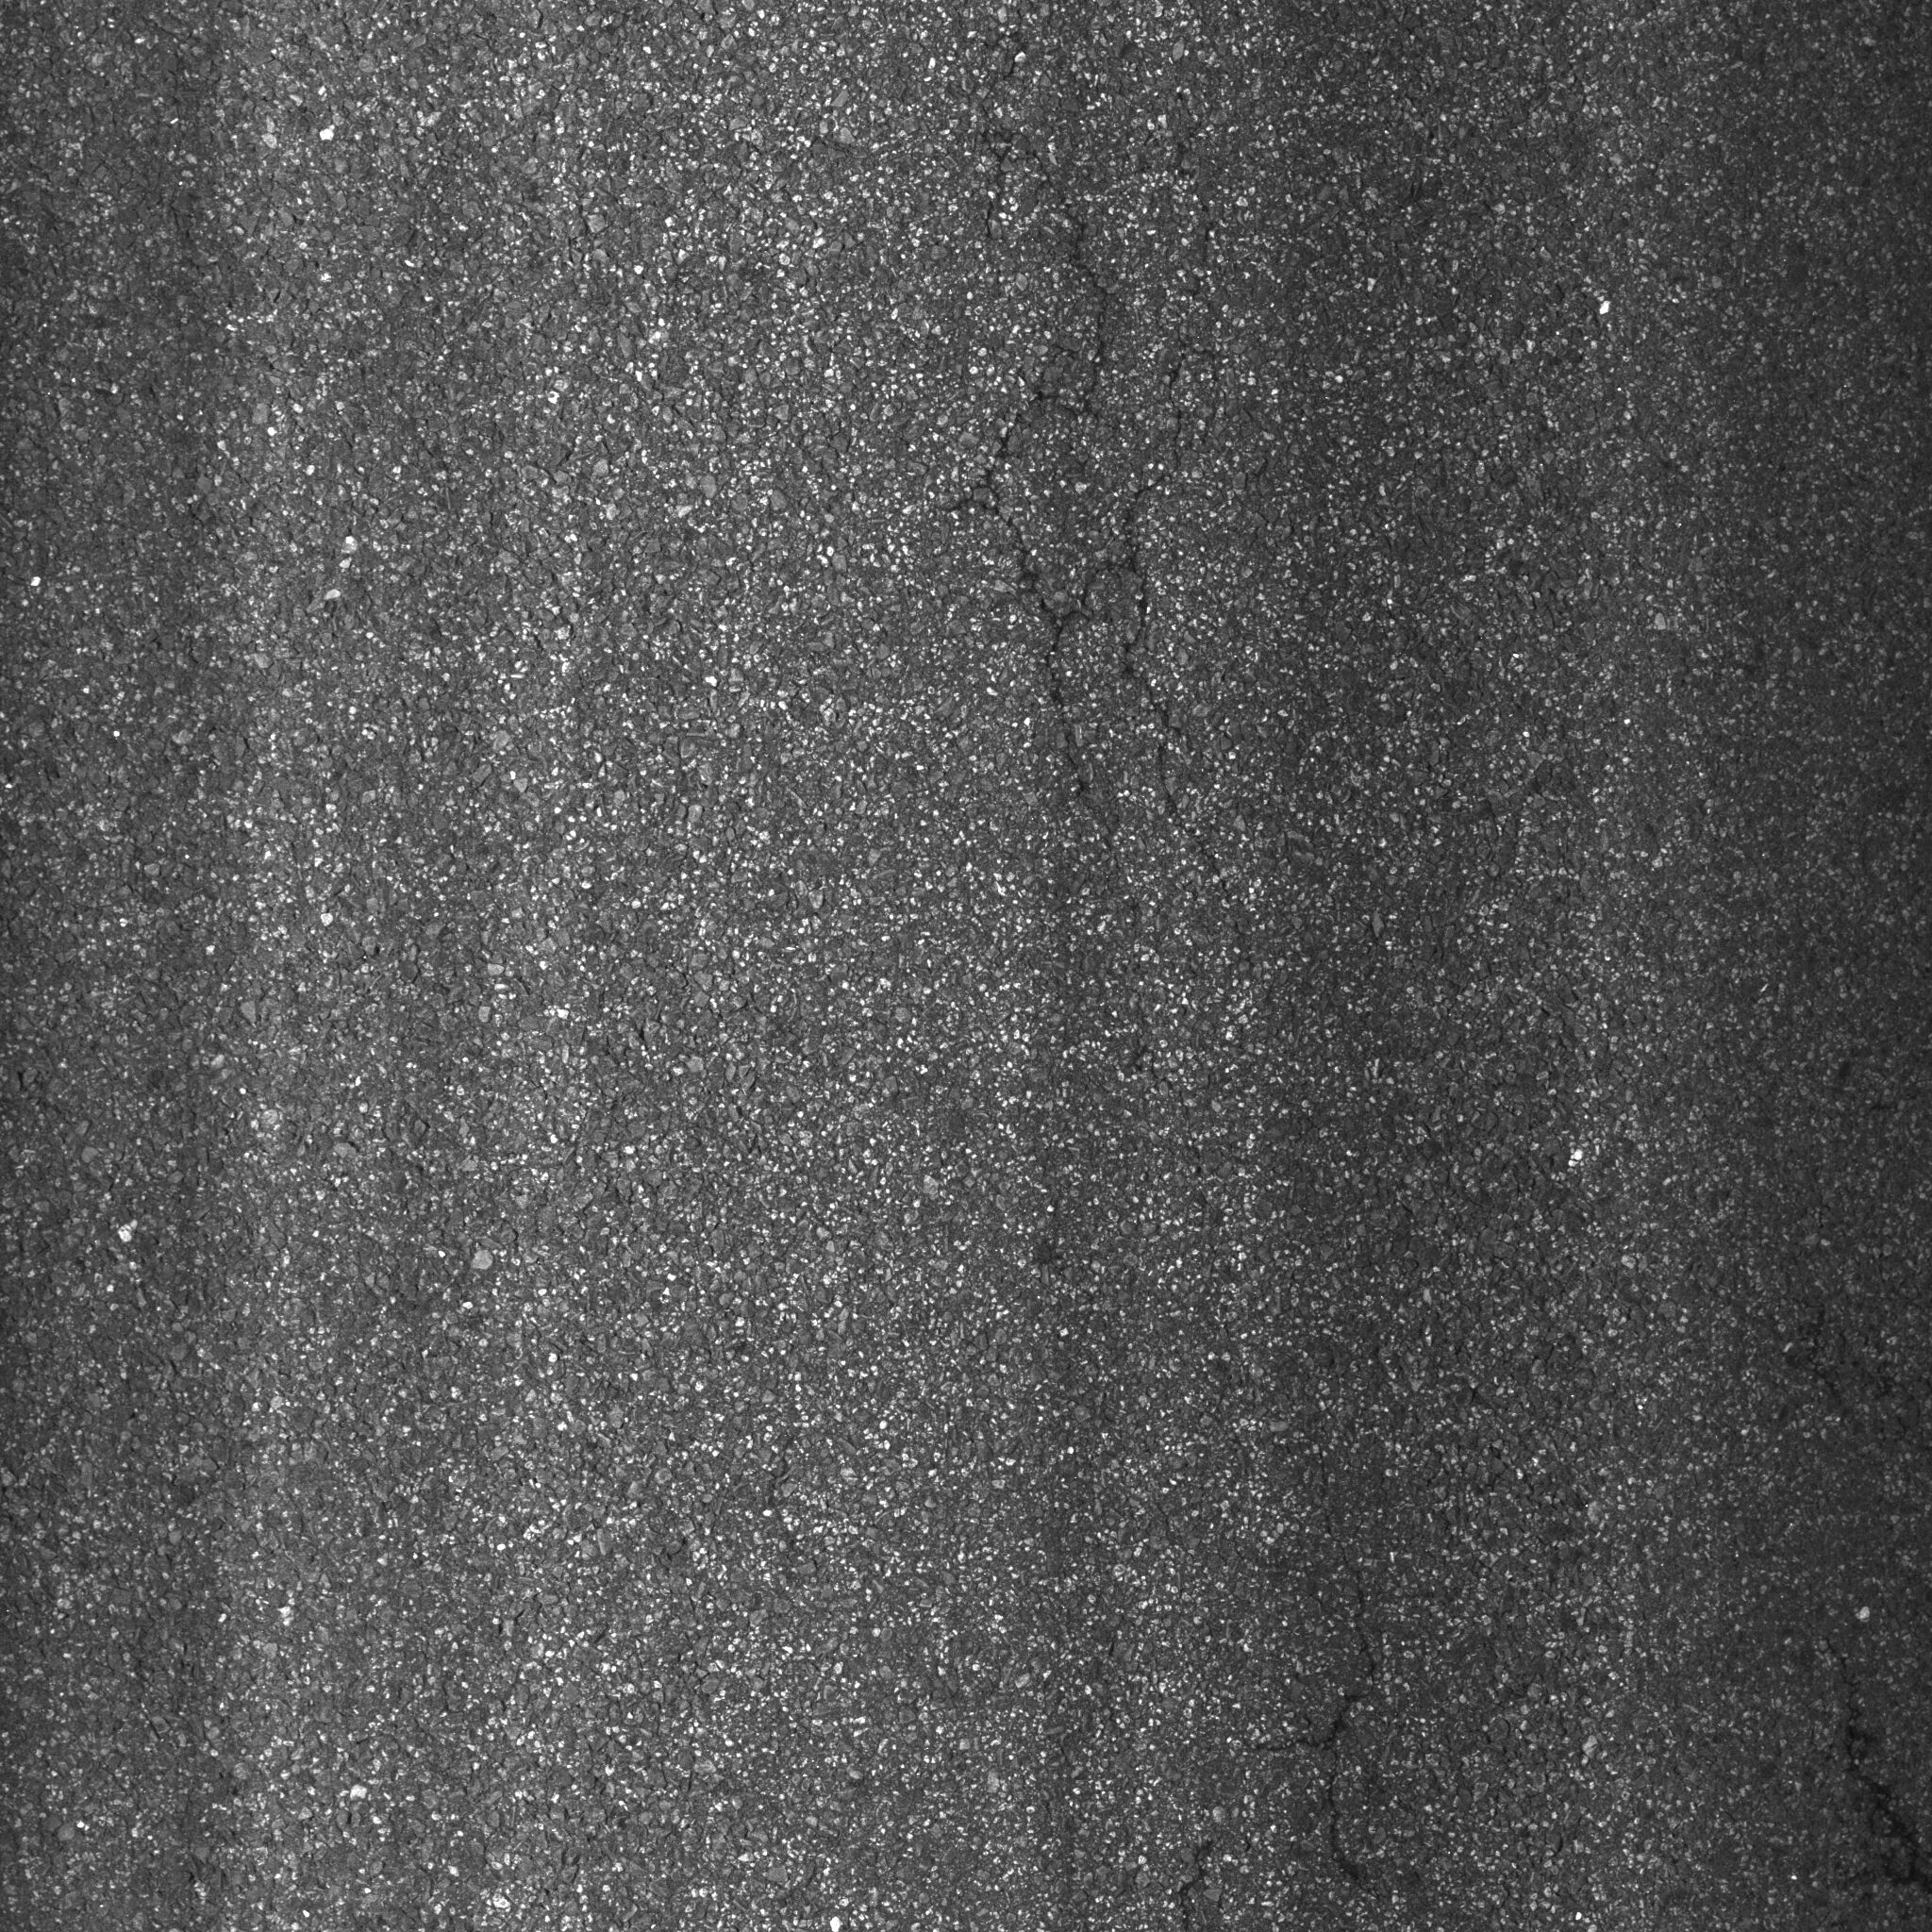longitudinal: (952, 41, 1203, 870), (1254, 1430, 1431, 1916)
